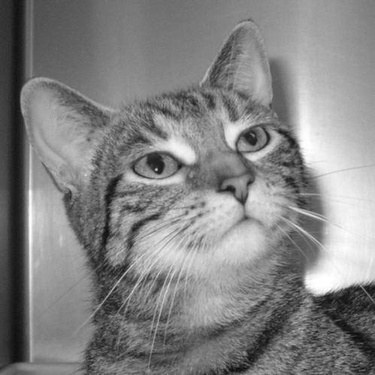cat: (19, 18, 372, 372)
